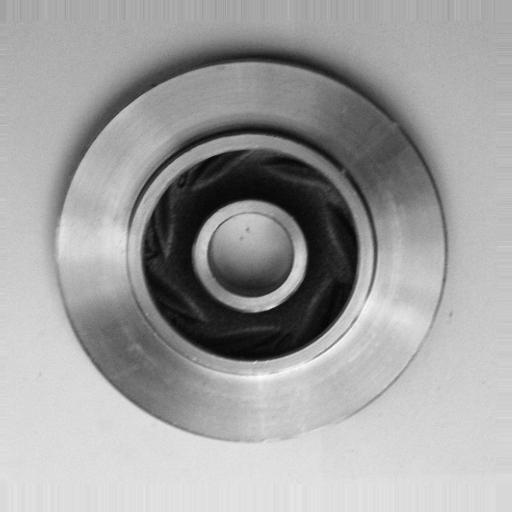unpolished_casting: (53, 52, 450, 448)
